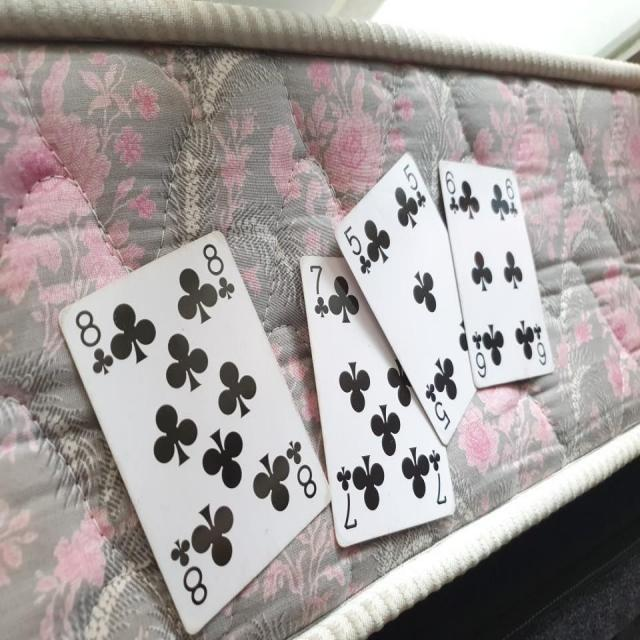5 of clubs: (331, 148, 477, 444)
6 of clubs: (436, 154, 554, 388)
7 of clubs: (298, 252, 458, 548)
8 of clubs: (58, 226, 332, 634)
